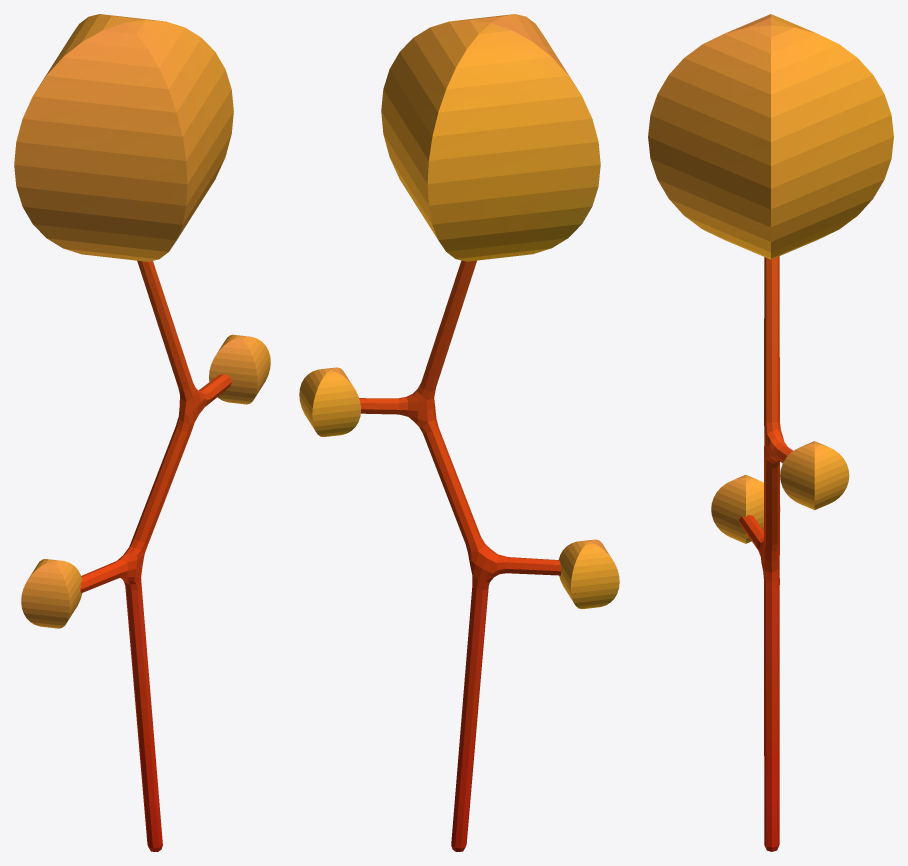
File: Tree_12.fbx
3 views of the same model, side by side, from view 1: azimuth 30°, elevation 25°; view 2: azimuth 150°, elevation 25°; view 3: azimuth 270°, elevation 25° (orthographic). The views are drawn at different scales.
Visible parts, largest first — view 1: Tree_12; view 2: Tree_12; view 3: Tree_12.
Part boxes in pixels (box(x1,y1,x2,y2)): Tree_12: box(14, 14, 270, 851); Tree_12: box(299, 14, 619, 851); Tree_12: box(648, 14, 893, 851).
Size of the model in its own units: 182 by 509 by 140.
Materials: 1 (1 with a texture image).
